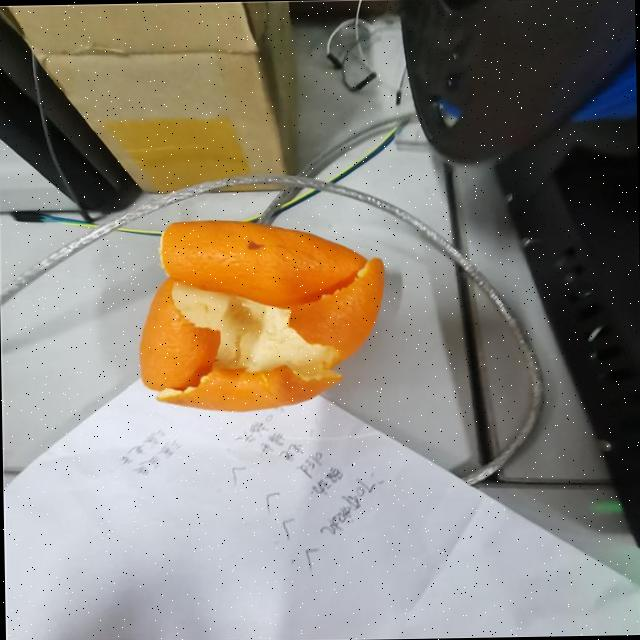orange-peel: (136, 214, 387, 413)
